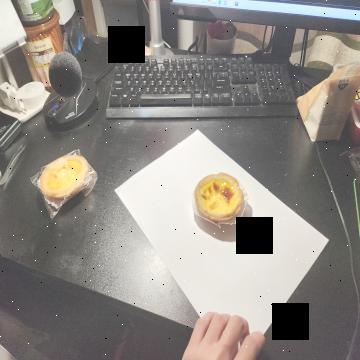EggTart: (194, 171, 244, 222)
